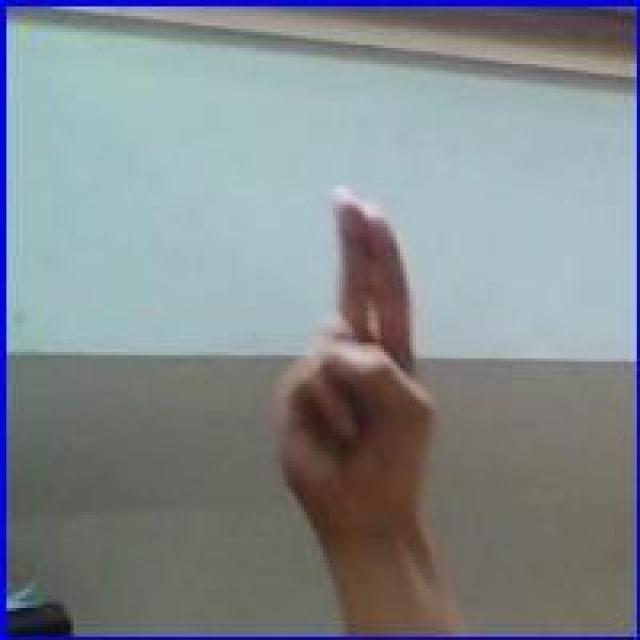U: (268, 184, 442, 517)
